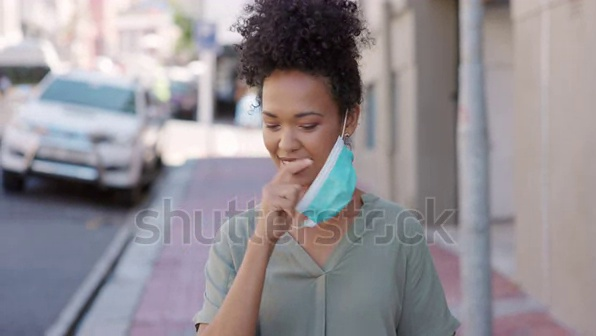No Mask: (264, 140, 335, 185)
